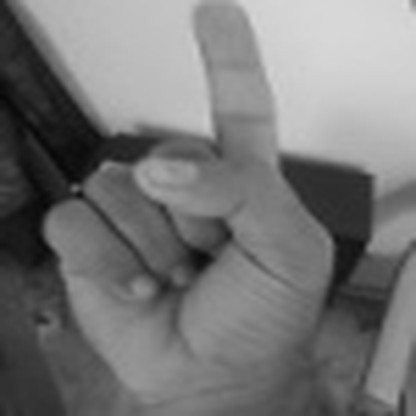d: (33, 1, 347, 398)
